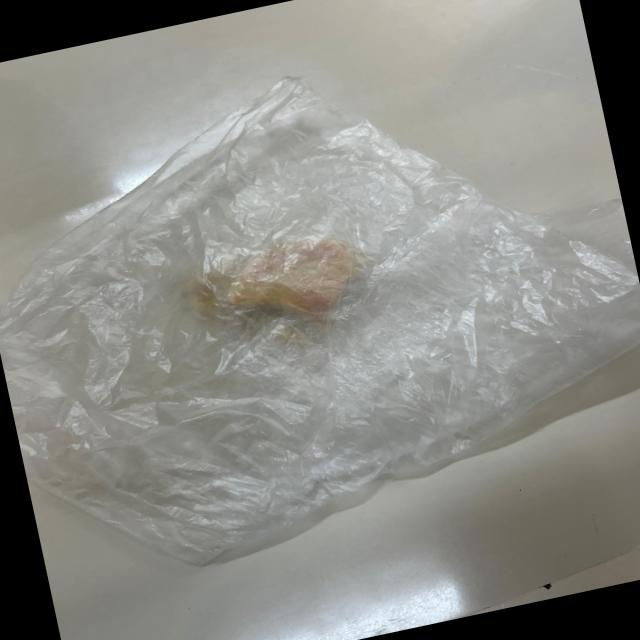inorganic: (0, 12, 640, 596)
